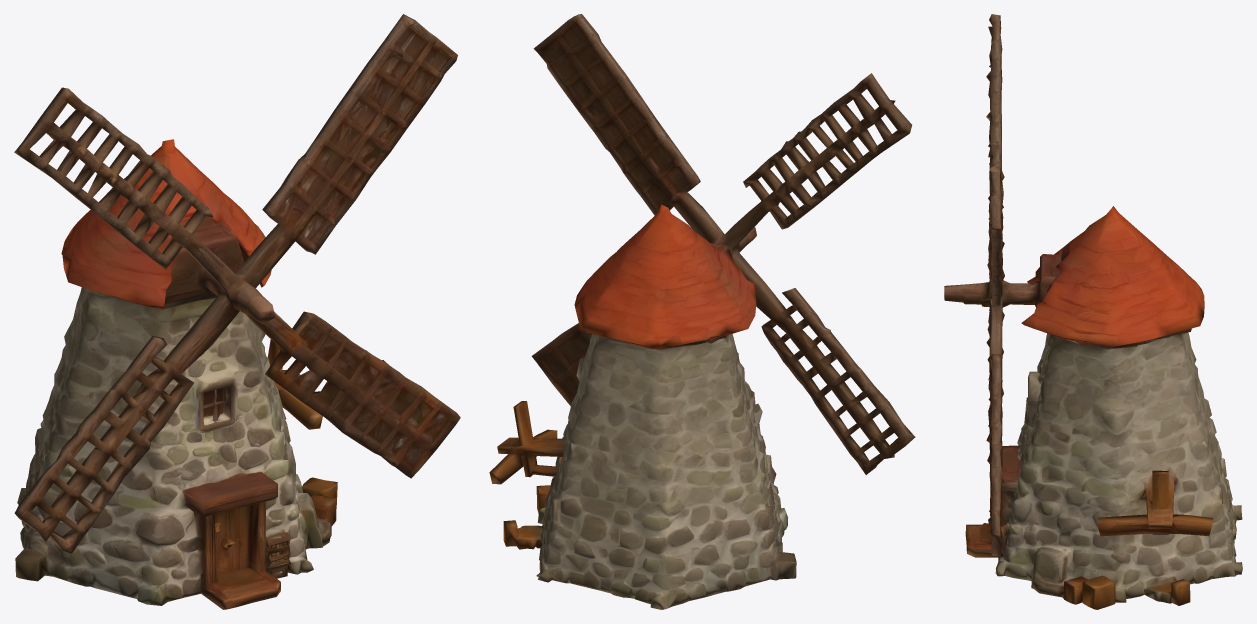
The model's file is tripo_village_windmill.glb.
The picture shows the model from 3 angles, left to right: view 1: azimuth 30°, elevation 25°; view 2: azimuth 150°, elevation 25°; view 3: azimuth 270°, elevation 25°; orthographic projection. The views are drawn at different scales.
Visible parts, largest first — view 1: village_windmill; view 2: village_windmill; view 3: village_windmill.
Part boxes in pixels (box(x1,y1,x2,y2)): village_windmill: box(14, 14, 460, 609); village_windmill: box(489, 14, 915, 609); village_windmill: box(944, 14, 1242, 609).
Size of the model in its own units: 10.28 by 12 by 7.06.
Materials: 1 (1 with a texture image).
